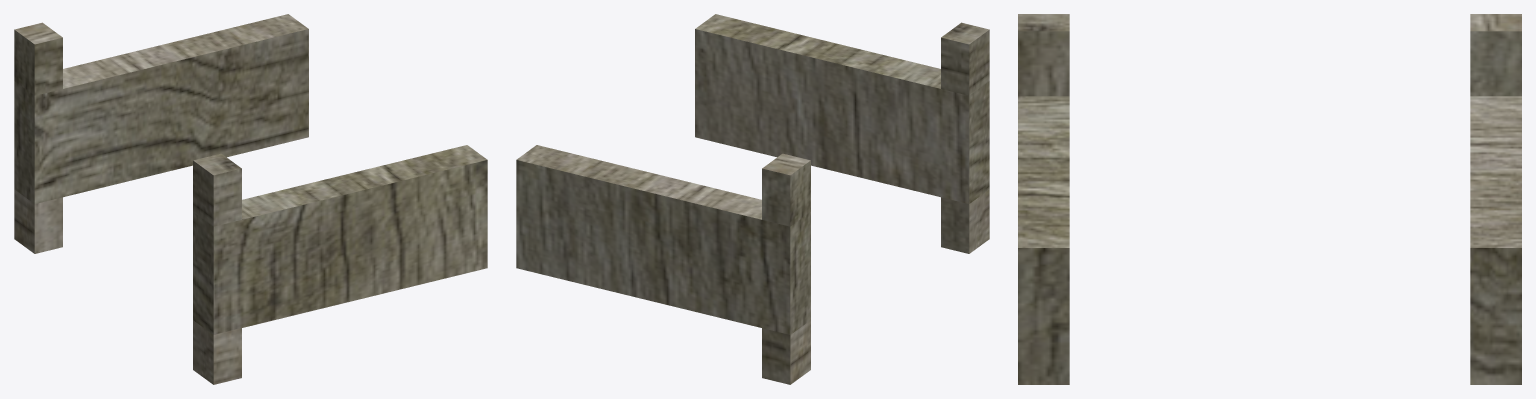
Rendered from Kanonenhalterung.fbx.
3 views of the same model, side by side, from view 1: azimuth 30°, elevation 25°; view 2: azimuth 150°, elevation 25°; view 3: azimuth 270°, elevation 25° (orthographic). The views are drawn at different scales.
Visible parts, largest first — view 1: Halterung; view 2: Halterung; view 3: Halterung.
Boxes of the visible parts, box(x1,y1,x2,y2) form: Halterung: box(14, 14, 487, 384); Halterung: box(516, 14, 989, 384); Halterung: box(1018, 14, 1521, 384).
Size of the model in its own units: 1.96 by 1.43 by 2.47.
1 material, 1 textured.
